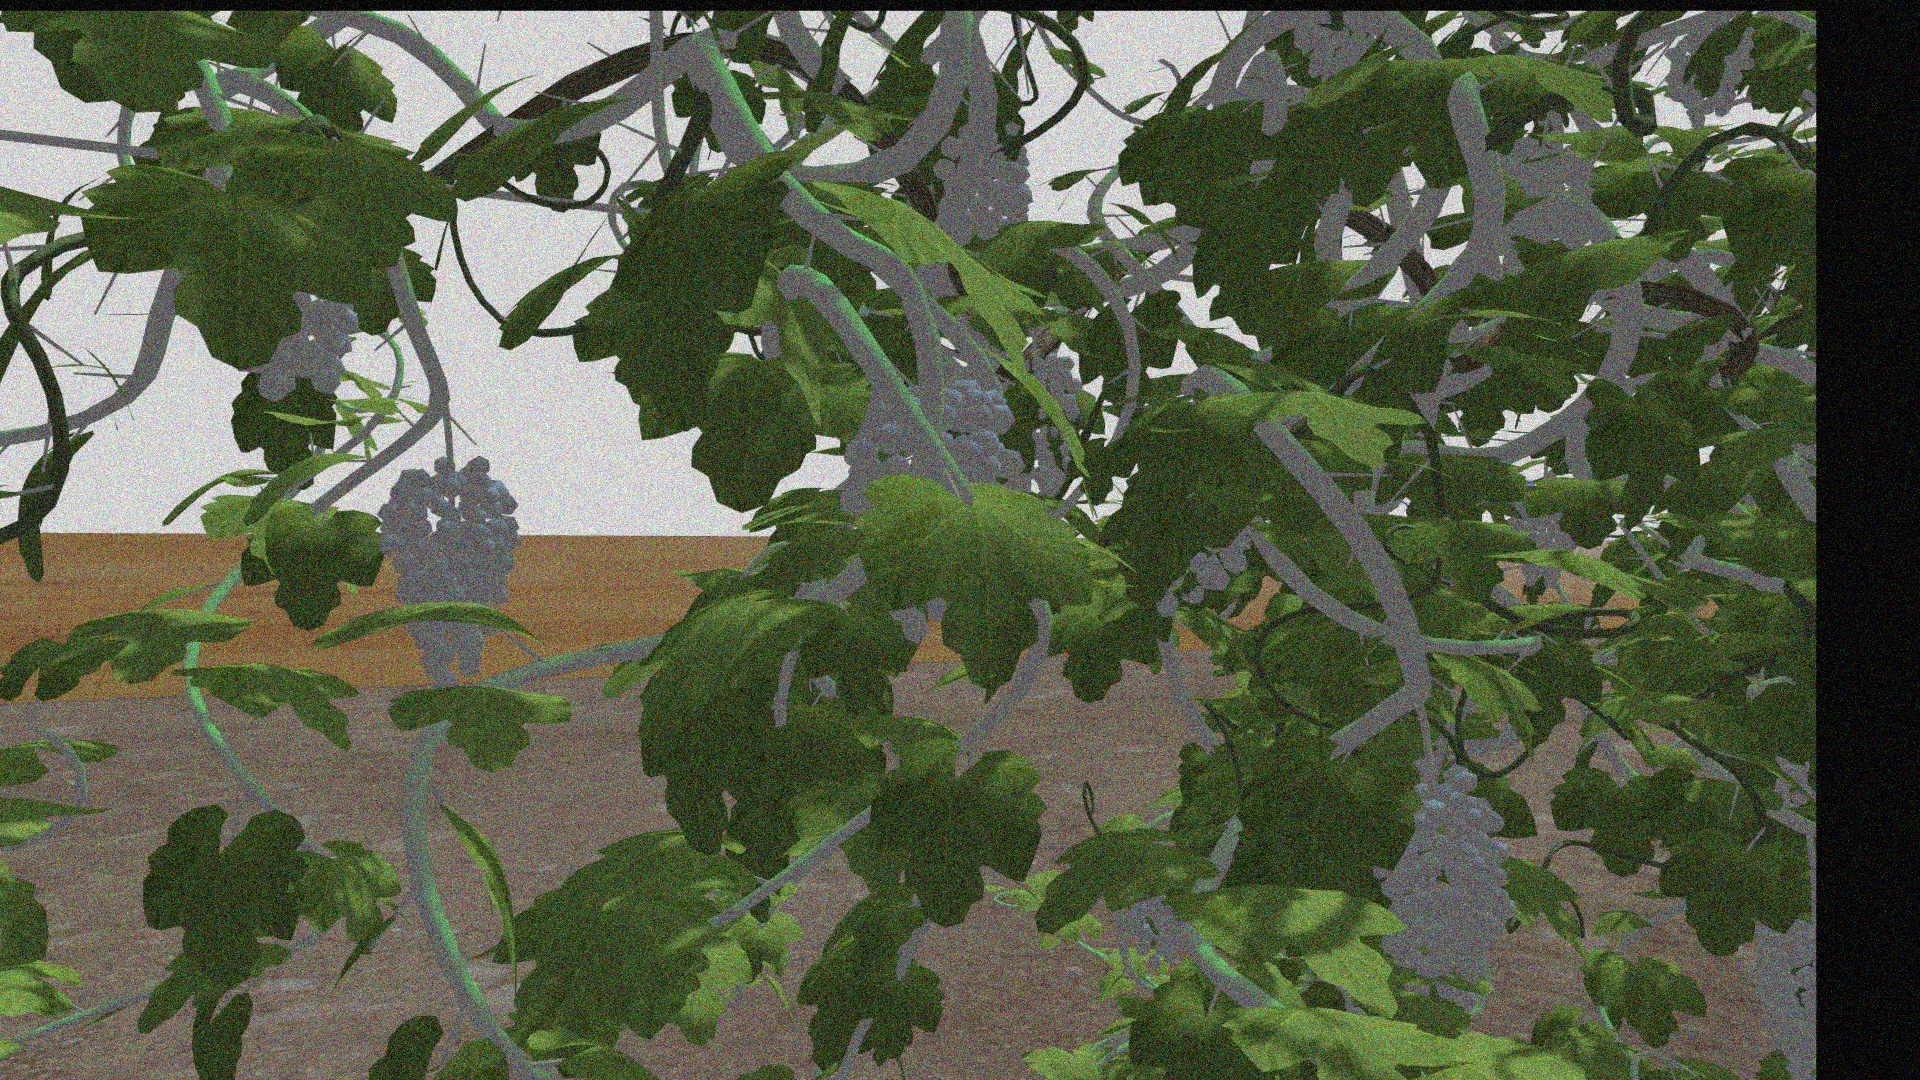grape: (375, 451, 521, 694), (1377, 761, 1507, 1004), (840, 369, 1025, 491), (247, 280, 357, 401), (934, 124, 1036, 241)
